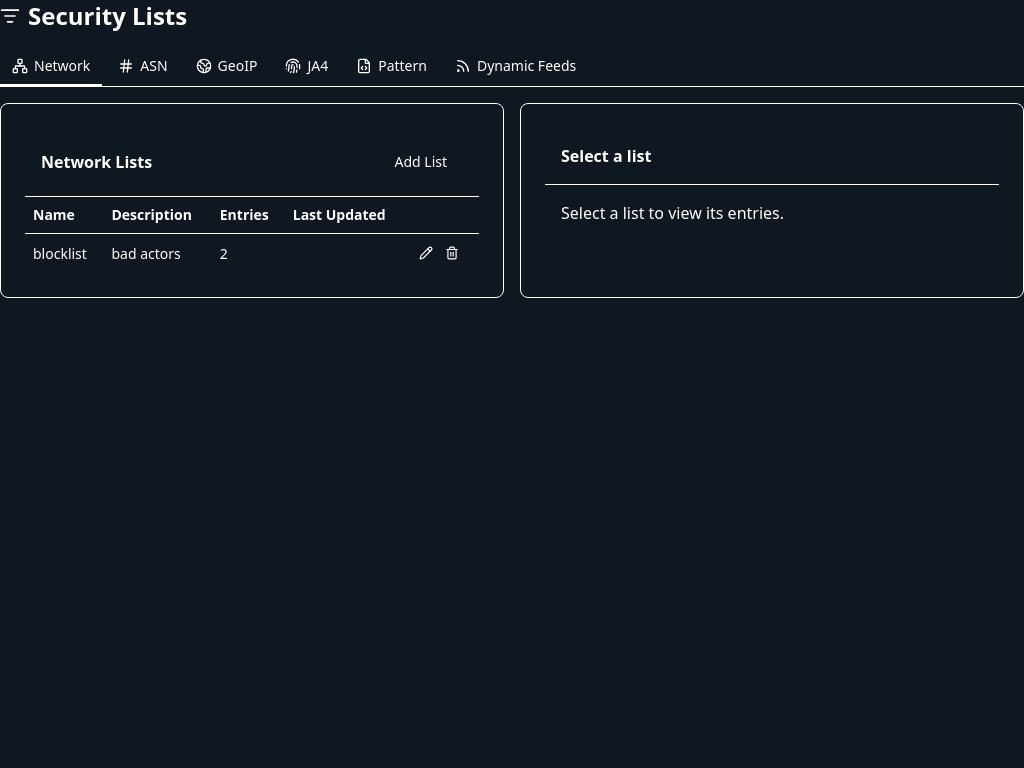
Scenario: SecurityLists page › View button on a feed opens the entries modal
Expected: the text "blocklist" is shown, [25, 234, 103, 273]
Click the button "Dynamic Feeds".
click(516, 67)  # box [443, 48, 588, 86]
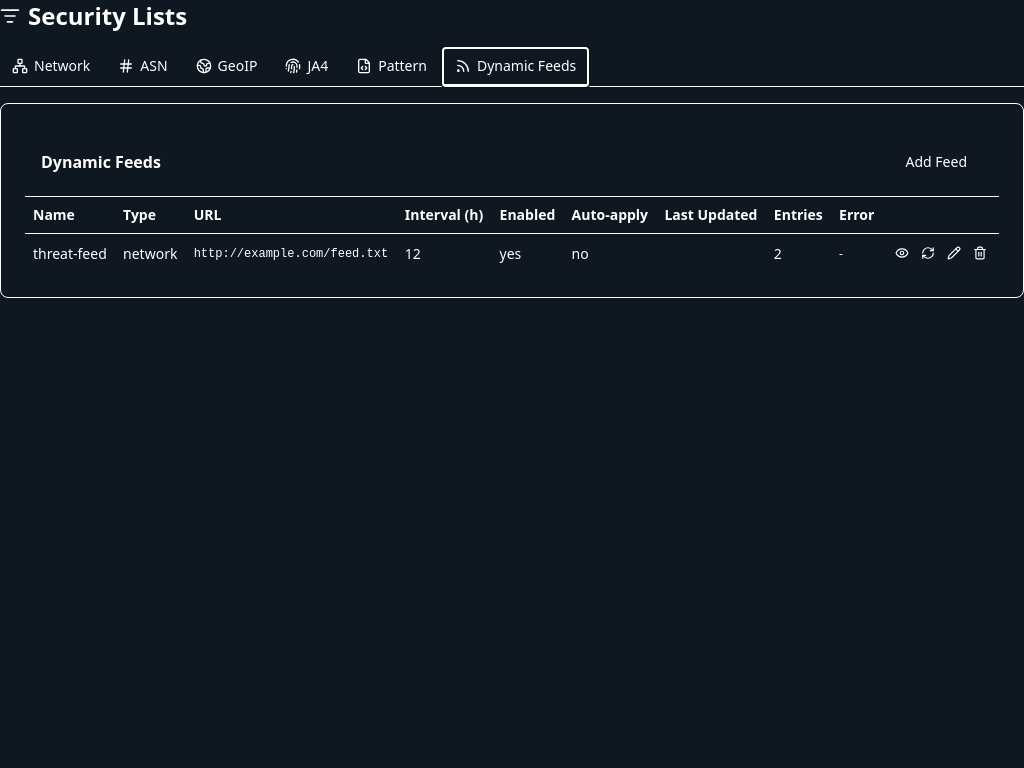
Expected: the text "threat-feed" is shown, [25, 234, 115, 273]
Click the button named "View".
click(902, 253)  # box [890, 242, 912, 264]
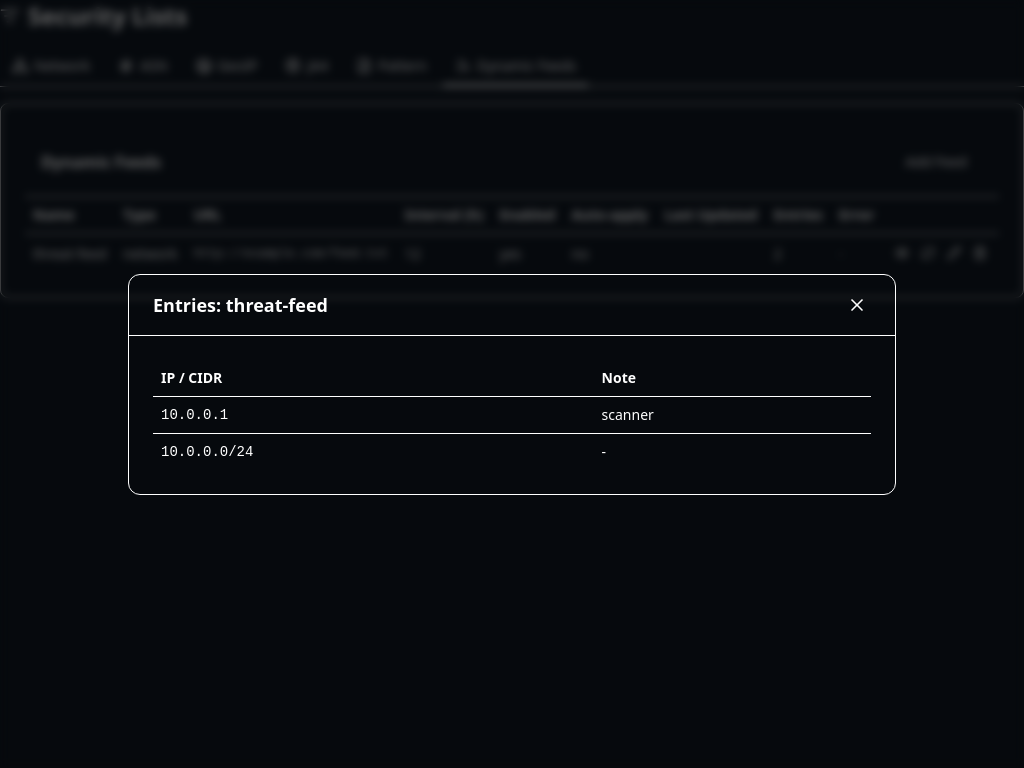
Expected: the heading "Entries: threat-feed" is shown, [153, 290, 328, 318]
Expected: the text "10.0.0.1" is shown, [153, 396, 594, 433]
Expected: the text "10.0.0.0/24" is shown, [153, 433, 594, 470]
